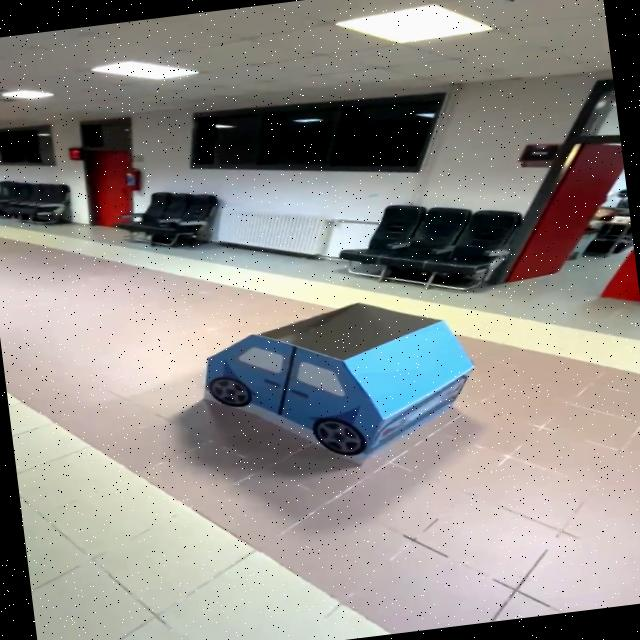blue_car: (173, 277, 507, 495)
